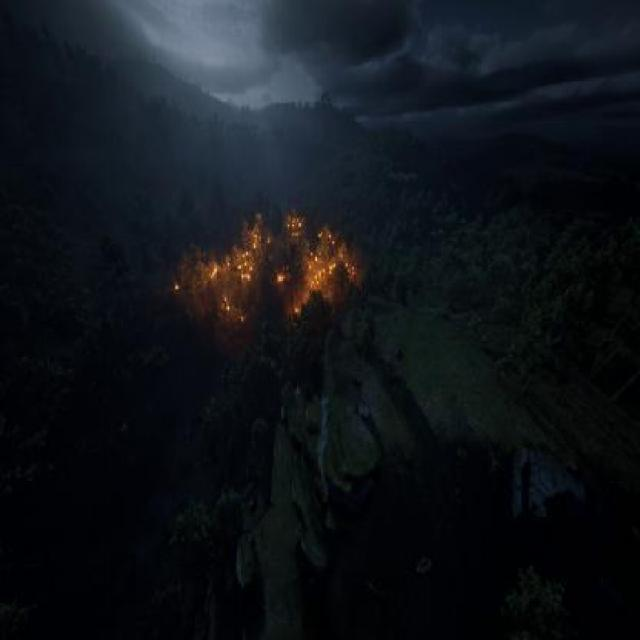Fire: (162, 195, 372, 338)
